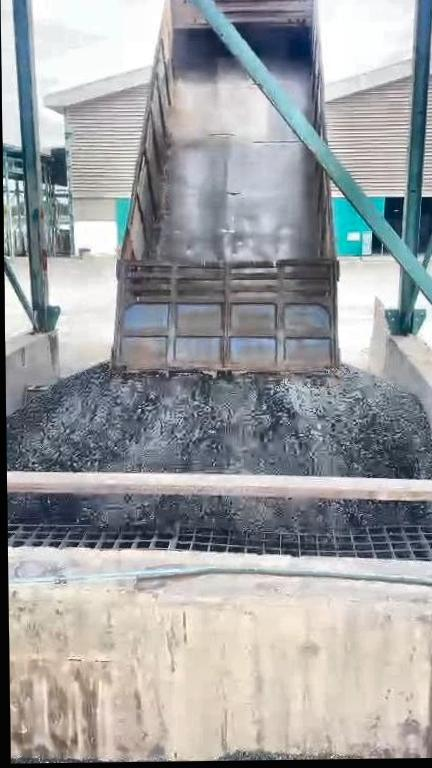gravel: (6, 364, 432, 478), (10, 495, 432, 531), (218, 751, 360, 760)
